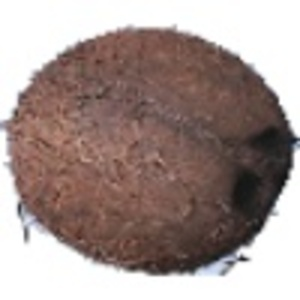coco: (1, 26, 300, 278)
